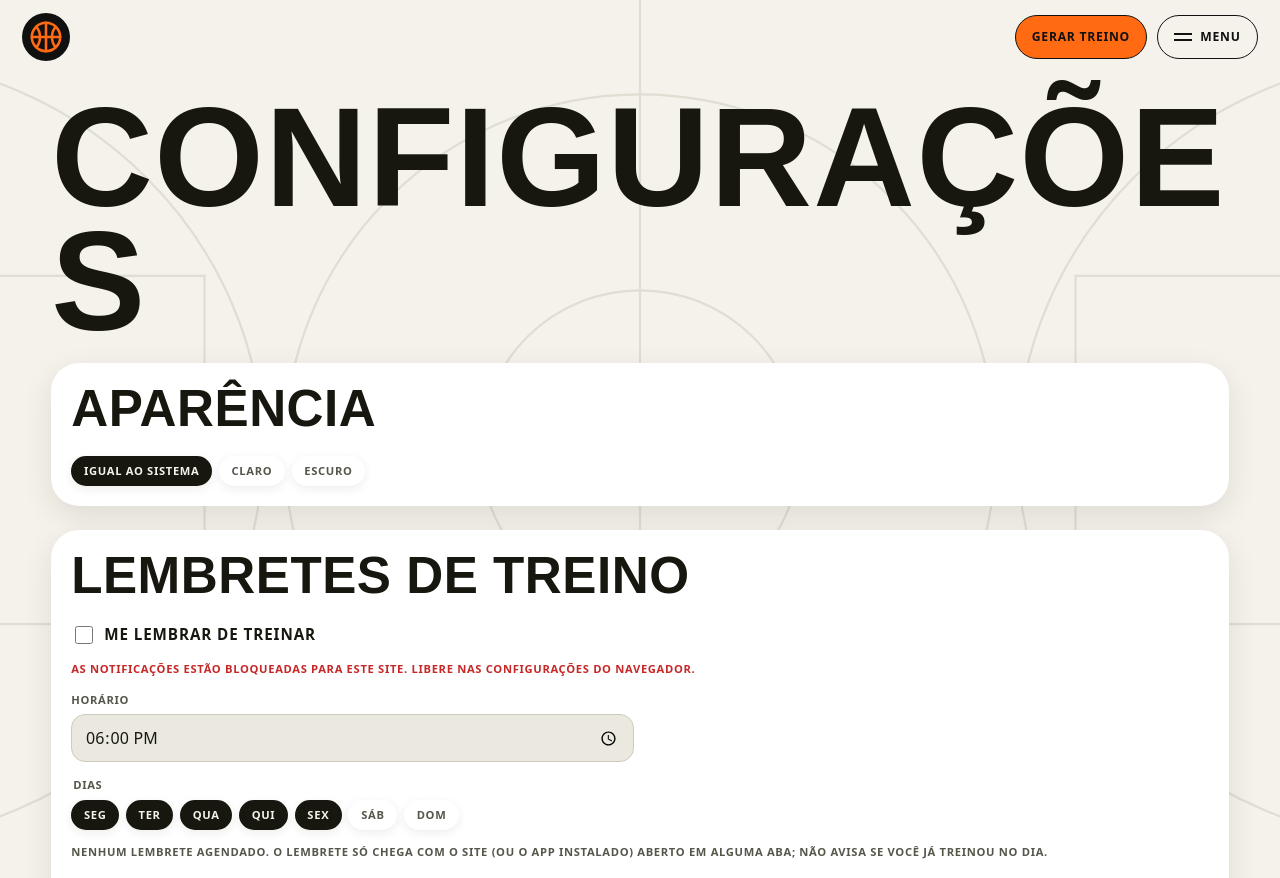
Test: Configurações › volta ao tema anterior e avisa quando o servidor recusa
Click the radio button labelled "Claro".
click(252, 471)  # box [219,456,285,486]
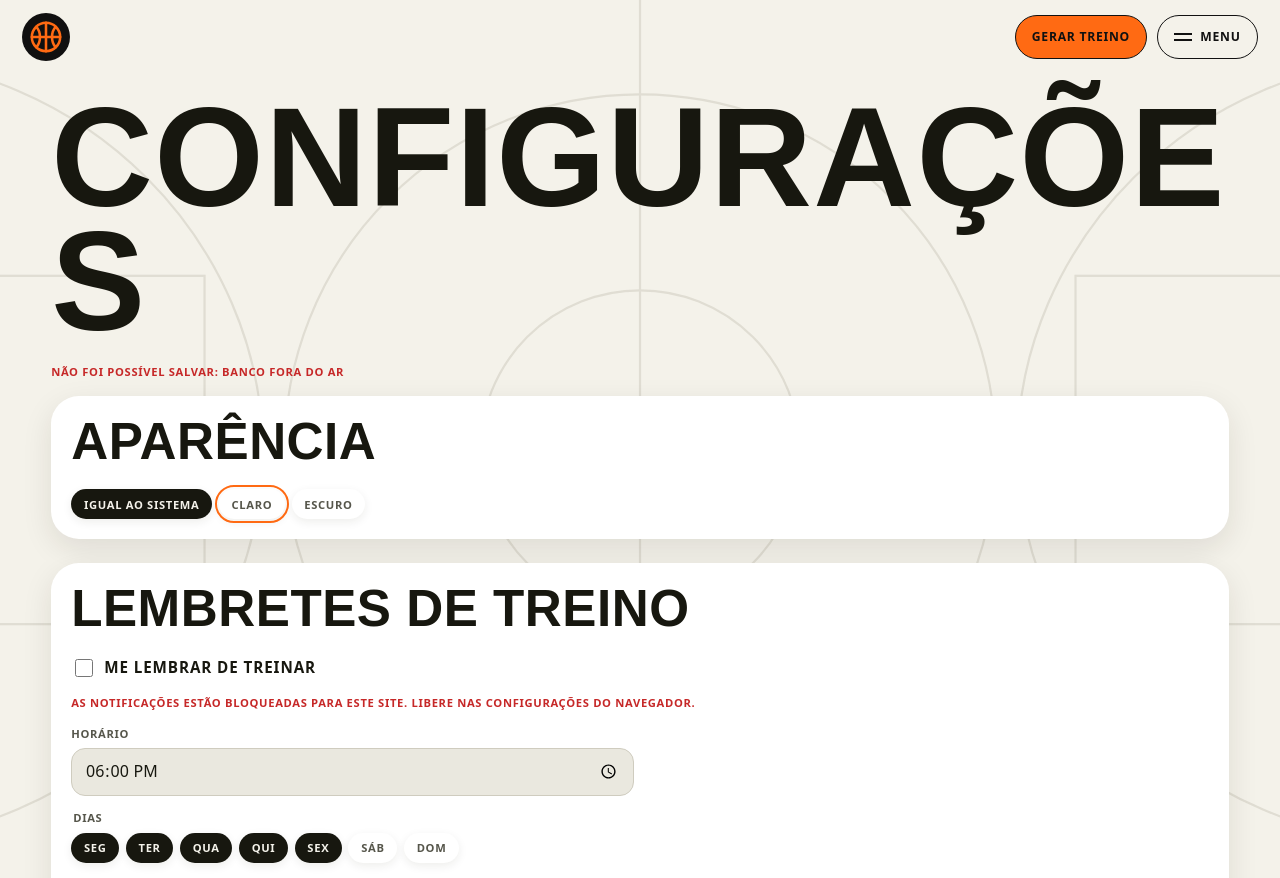
Expected: the radio button labelled "Igual ao sistema" is checked, [71,489,212,519]
Now the message reads "Não foi possível salvar: Banco fora do ar", box [51,364,344,379]
